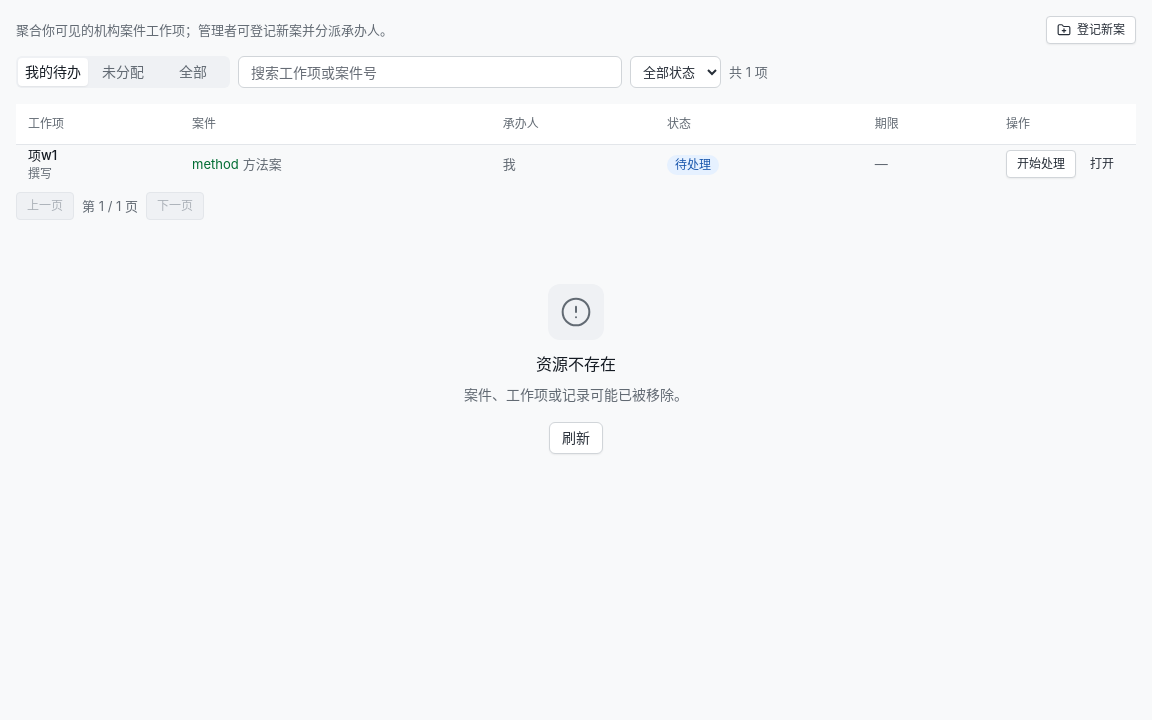
Z06/Z10：角色待办范围与空态 › 默认「我的待办」走 assignee=me；切「未分配/全部」换服务端口径
The image size is (1152, 720).
Check: the row with test id "work-item-w1" is shown, box [16,144,1136,184]
Check: the button with test id "work-item-start-w1" is shown, box [1006,150,1076,178]
Click the radio button with test id "queue-scope-unassigned".
click(123, 72)  # box [88,58,158,86]
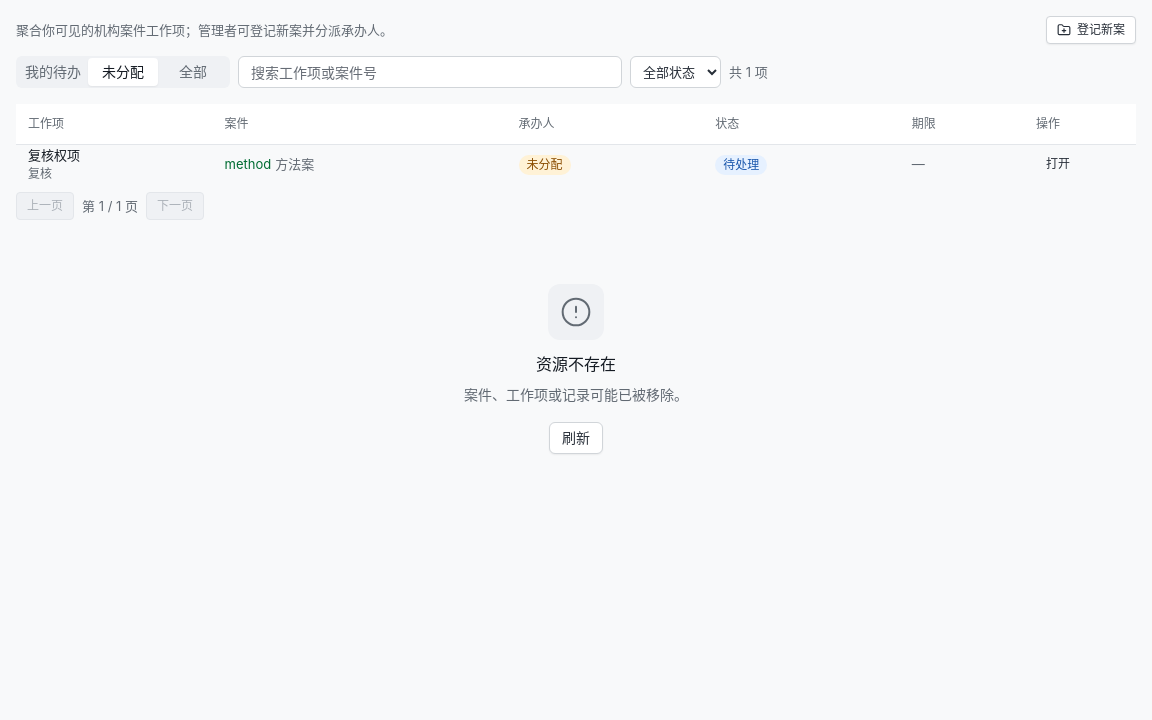
Check: the row with test id "work-item-w2" is shown, box [16,144,1136,184]
Check: the row with test id "work-item-w2" shows "未分配", box [527,157,563,172]
Click the radio button with test id "queue-scope-all".
click(193, 72)  # box [158,58,228,86]
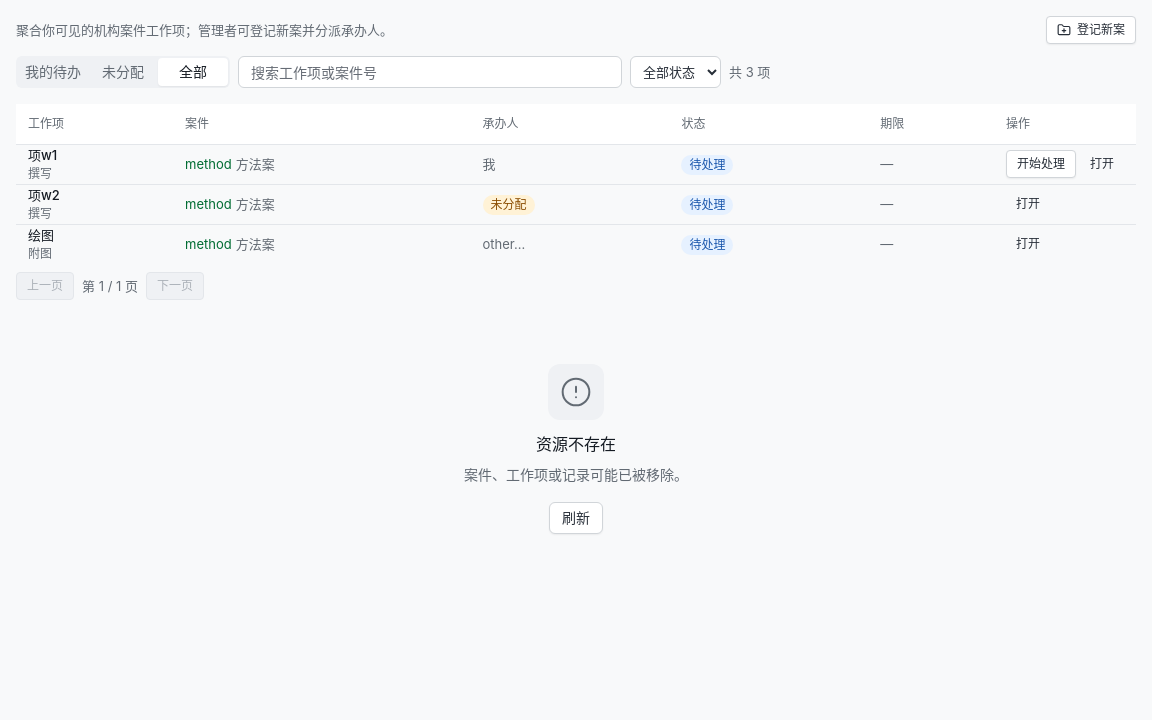
Check: the row with test id "work-item-w3" is shown, box [16,224,1136,264]
